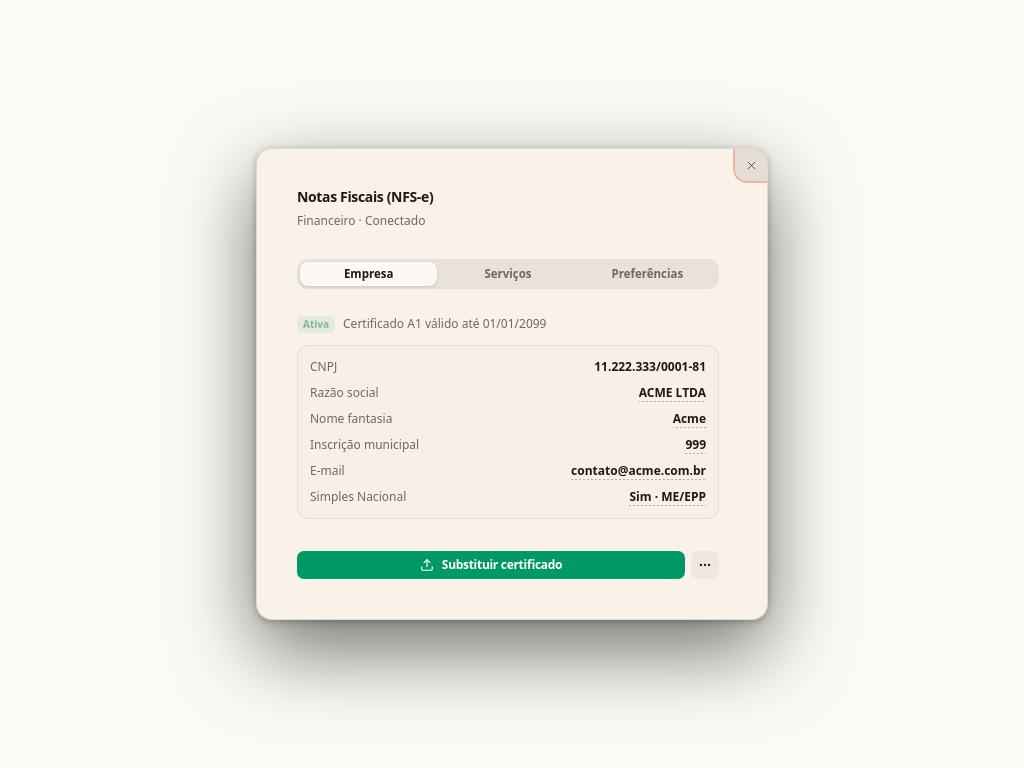
Test: janela Notas Fiscais (NFS-e) › Preferências: valores padrão e salvar
Later steps or results of the test are not shown.
Expected: the text "Financeiro · Conectado" is shown, x1=297 y1=212 x2=425 y2=229
What coordinates should you click on to do the following:
click the button "Preferências"
I would click on:
 (647, 274)
Its box is x1=579 y1=262 x2=716 y2=286.
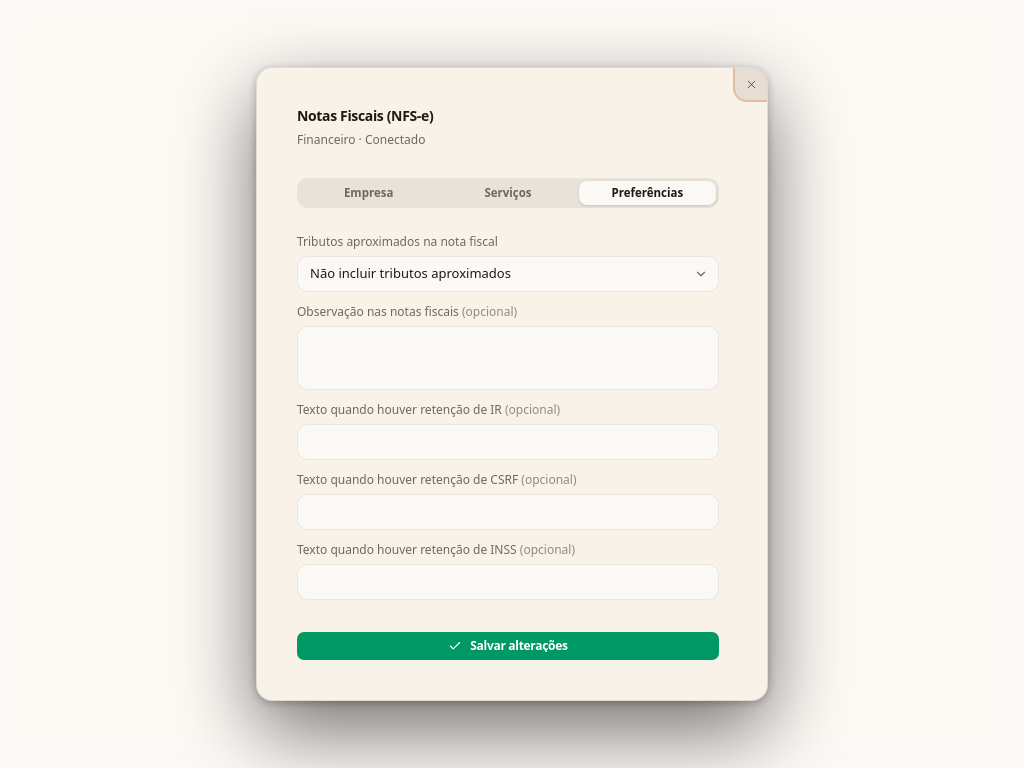
Result: the text "Não incluir tributos aproximados" is shown at x1=310 y1=264 x2=511 y2=282
Result: the text "Observação nas notas fiscais" is shown at x1=297 y1=303 x2=459 y2=320
Result: the text "Texto quando houver retenção de IR" is shown at x1=297 y1=401 x2=502 y2=418
